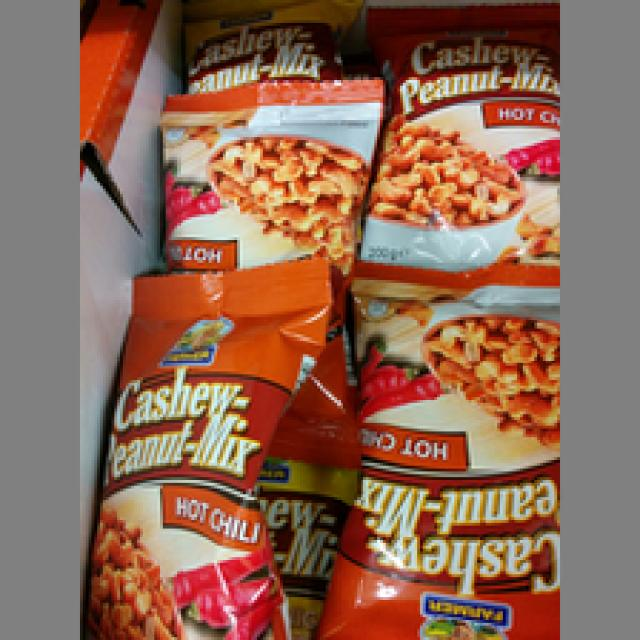groceries: (80, 252, 326, 637), (337, 274, 557, 637), (354, 0, 557, 277), (151, 77, 386, 266)
